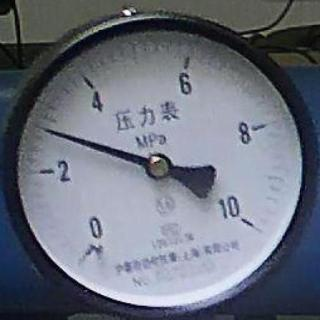gauge: (0, 0, 320, 320), (66, 211, 118, 273), (215, 188, 268, 246), (143, 150, 173, 182), (34, 120, 56, 138)
